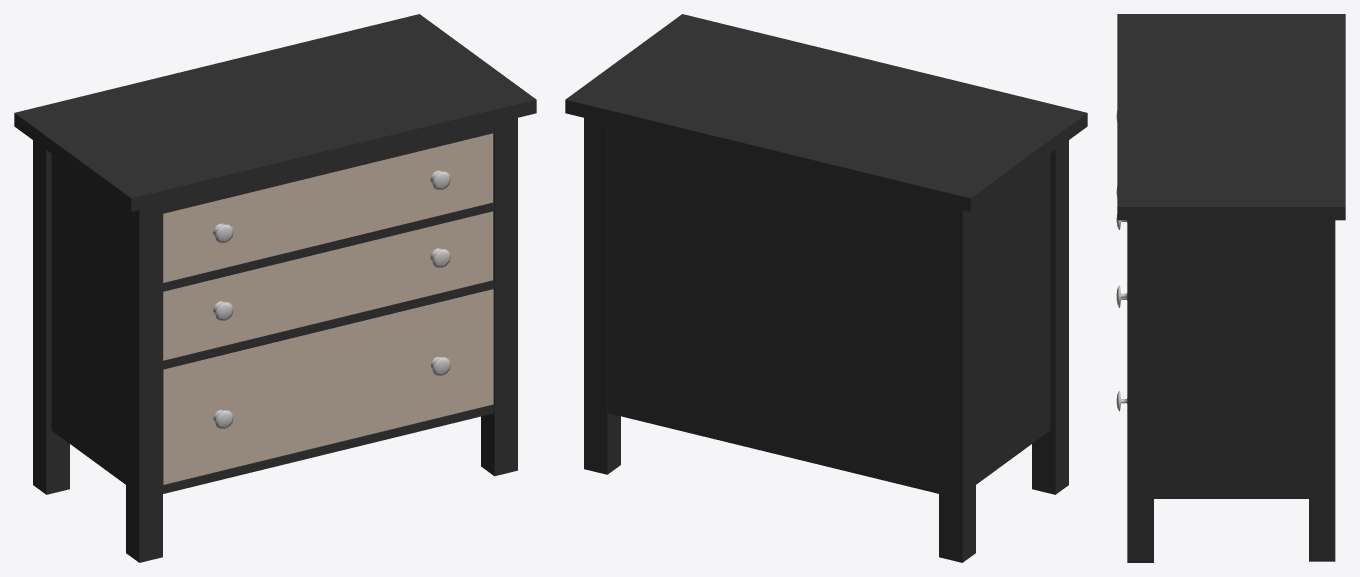
3 renders of one model, left to right at view 1: azimuth 30°, elevation 25°; view 2: azimuth 150°, elevation 25°; view 3: azimuth 270°, elevation 25°, orthographic. The views are drawn at different scales.
Parts seen in each view (by area): view 1: CabinetA_Frame, Cabinet, CabinetA_Drawer.Upper_Drawer_0.001, CabinetA_Drawer.Middle_Drawer_0.001, door_handle, door_handle.001, door_handle.002; view 2: CabinetA_Frame; view 3: CabinetA_Frame.
Part boxes in pixels (x1=…): CabinetA_Frame: x1=14, y1=14, x2=536, y2=562; Cabinet: x1=163, y1=289, x2=493, y2=484; CabinetA_Drawer.Upper_Drawer_0.001: x1=163, y1=133, x2=493, y2=282; CabinetA_Drawer.Middle_Drawer_0.001: x1=163, y1=211, x2=493, y2=360; door_handle: x1=213, y1=170, x2=450, y2=243; door_handle.001: x1=213, y1=248, x2=450, y2=321; door_handle.002: x1=213, y1=357, x2=450, y2=429; CabinetA_Frame: x1=565, y1=14, x2=1087, y2=562; CabinetA_Frame: x1=1117, y1=14, x2=1345, y2=562.
Bounding box in the file's own units: 2.51 × 2.2 × 1.26.
